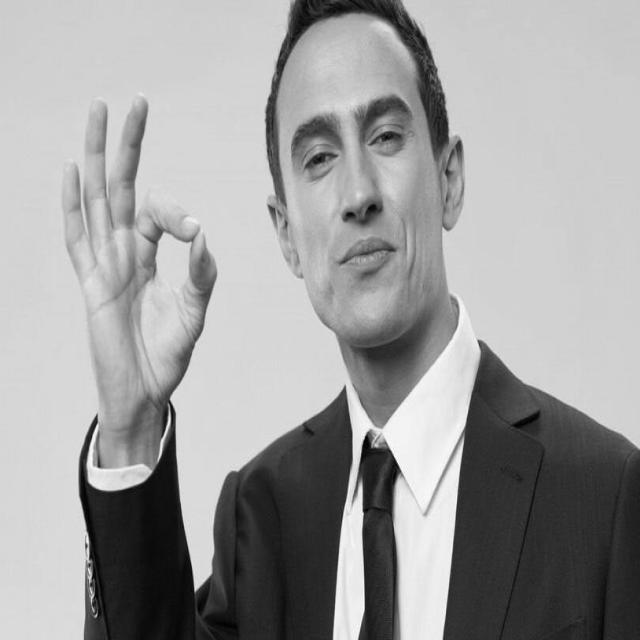perfect: (54, 82, 230, 433)
